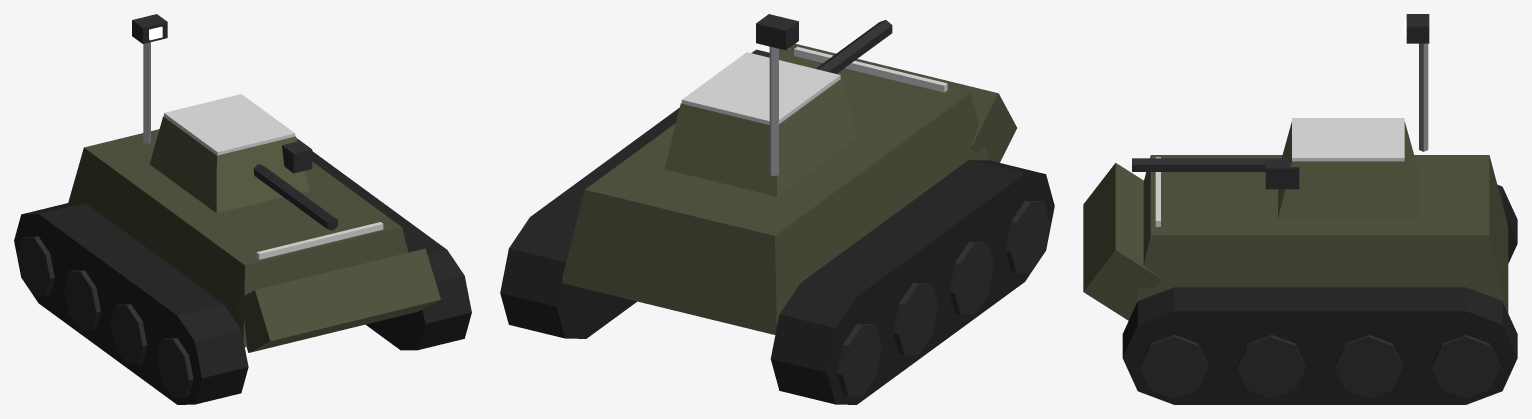
The model's file is ugv.glb.
The picture shows the model from 3 angles, left to right: view 1: azimuth 30°, elevation 25°; view 2: azimuth 150°, elevation 25°; view 3: azimuth 270°, elevation 25°; orthographic projection. The views are drawn at different scales.
Parts seen in each view (by area): view 1: Body; view 2: Body; view 3: Body.
Part boxes in pixels (x1,y1,x2,y2): Body: (14,14,471,404); Body: (500,14,1054,404); Body: (1083,14,1517,404).
Bounding box in the file's own units: 1.8 × 1.71 × 2.31.
